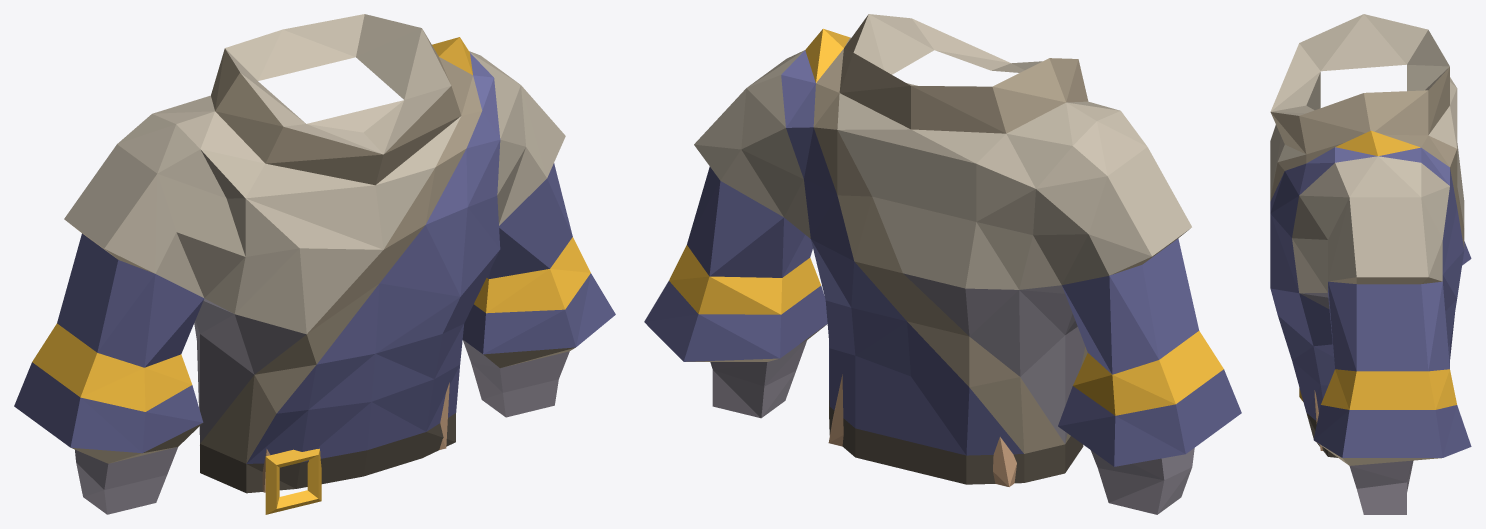
Rendered from player_ancestral_robe_top.glb.
3 renders of one model, left to right at view 1: azimuth 30°, elevation 25°; view 2: azimuth 150°, elevation 25°; view 3: azimuth 270°, elevation 25°, orthographic. The views are drawn at different scales.
Size of the model in its own units: 77.99 by 56.99 by 28.01.
Materials: 1 (1 with a texture image).
